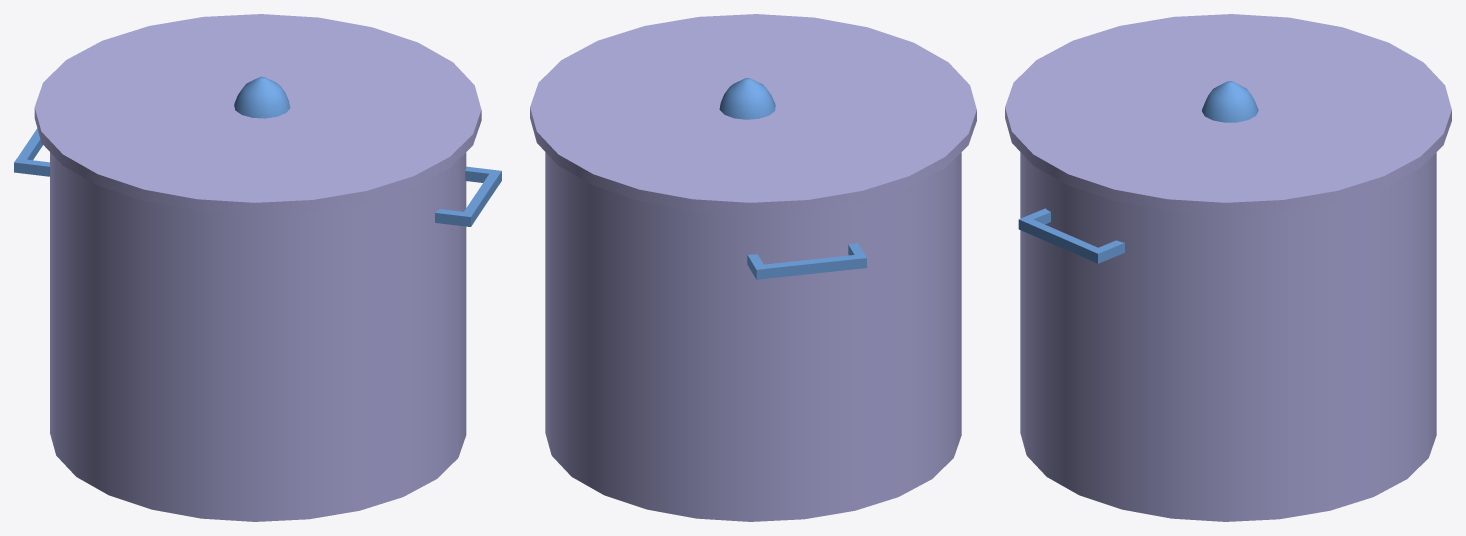
Rendered from 4 pan.fbx.
3 views of the same model, side by side, from view 1: azimuth 30°, elevation 25°; view 2: azimuth 150°, elevation 25°; view 3: azimuth 270°, elevation 25° (orthographic).
Parts seen in each view (by area): view 1: 4 pan; view 2: 4 pan; view 3: 4 pan.
Part boxes in pixels (<box>): 4 pan: <box>14,14,501,521</box>; 4 pan: <box>530,14,976,521</box>; 4 pan: <box>1005,14,1451,521</box>.
Bounding box in the file's own units: 11.81 × 10.33 × 11.81.
